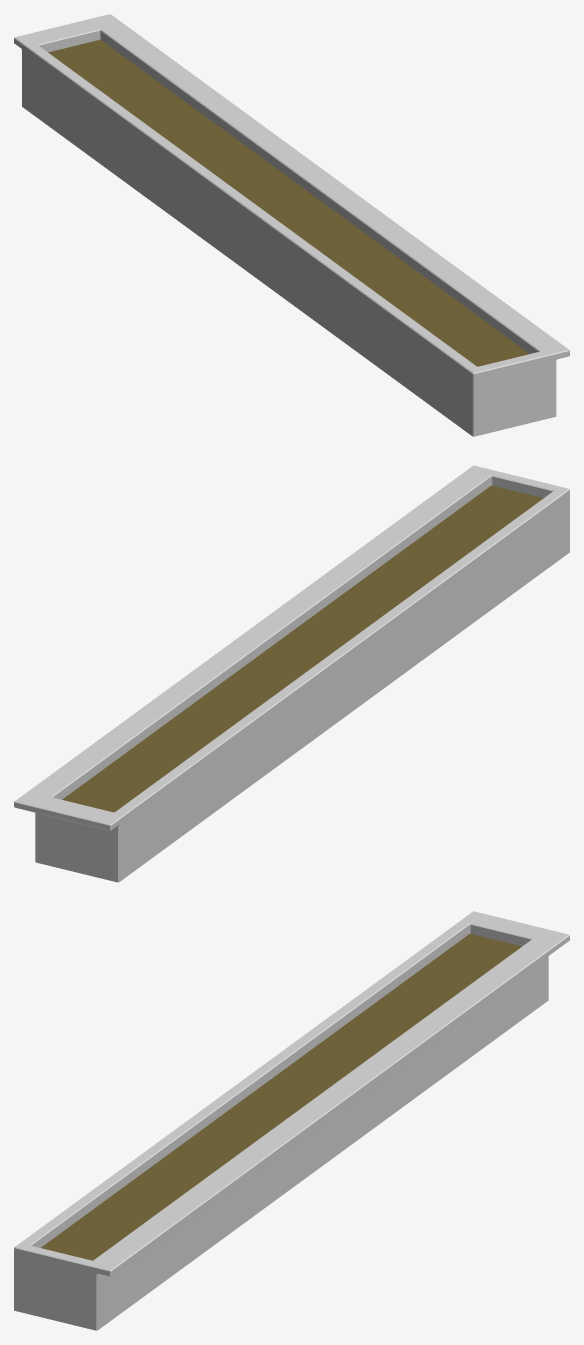
The model's file is LargePot1.fbx.
3 views of the same model, one above another, from view 1: azimuth 30°, elevation 25°; view 2: azimuth 150°, elevation 25°; view 3: azimuth 330°, elevation 25° (orthographic).
Parts seen in each view (by area): view 1: pPlane40; view 2: pPlane40; view 3: pPlane40.
Part boxes in pixels (x1,y1,x2,y2): pPlane40: (14,14,569,436); pPlane40: (14,465,569,882); pPlane40: (14,911,569,1330).
Bounding box in the file's own units: 1.79 × 1.11 × 14.63.
